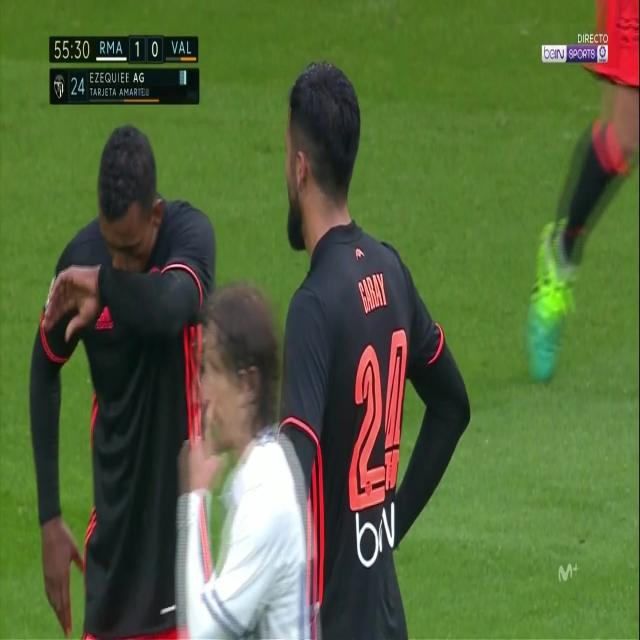Player: (281, 54, 474, 640), (29, 120, 221, 637), (172, 280, 316, 640)
